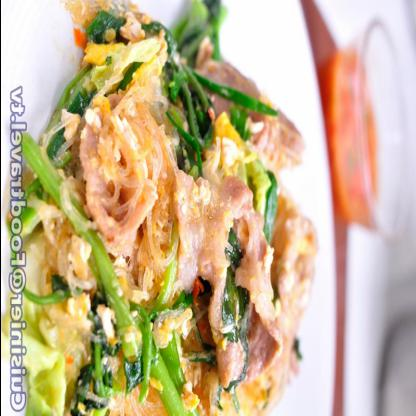Suki: (0, 1, 326, 402)
